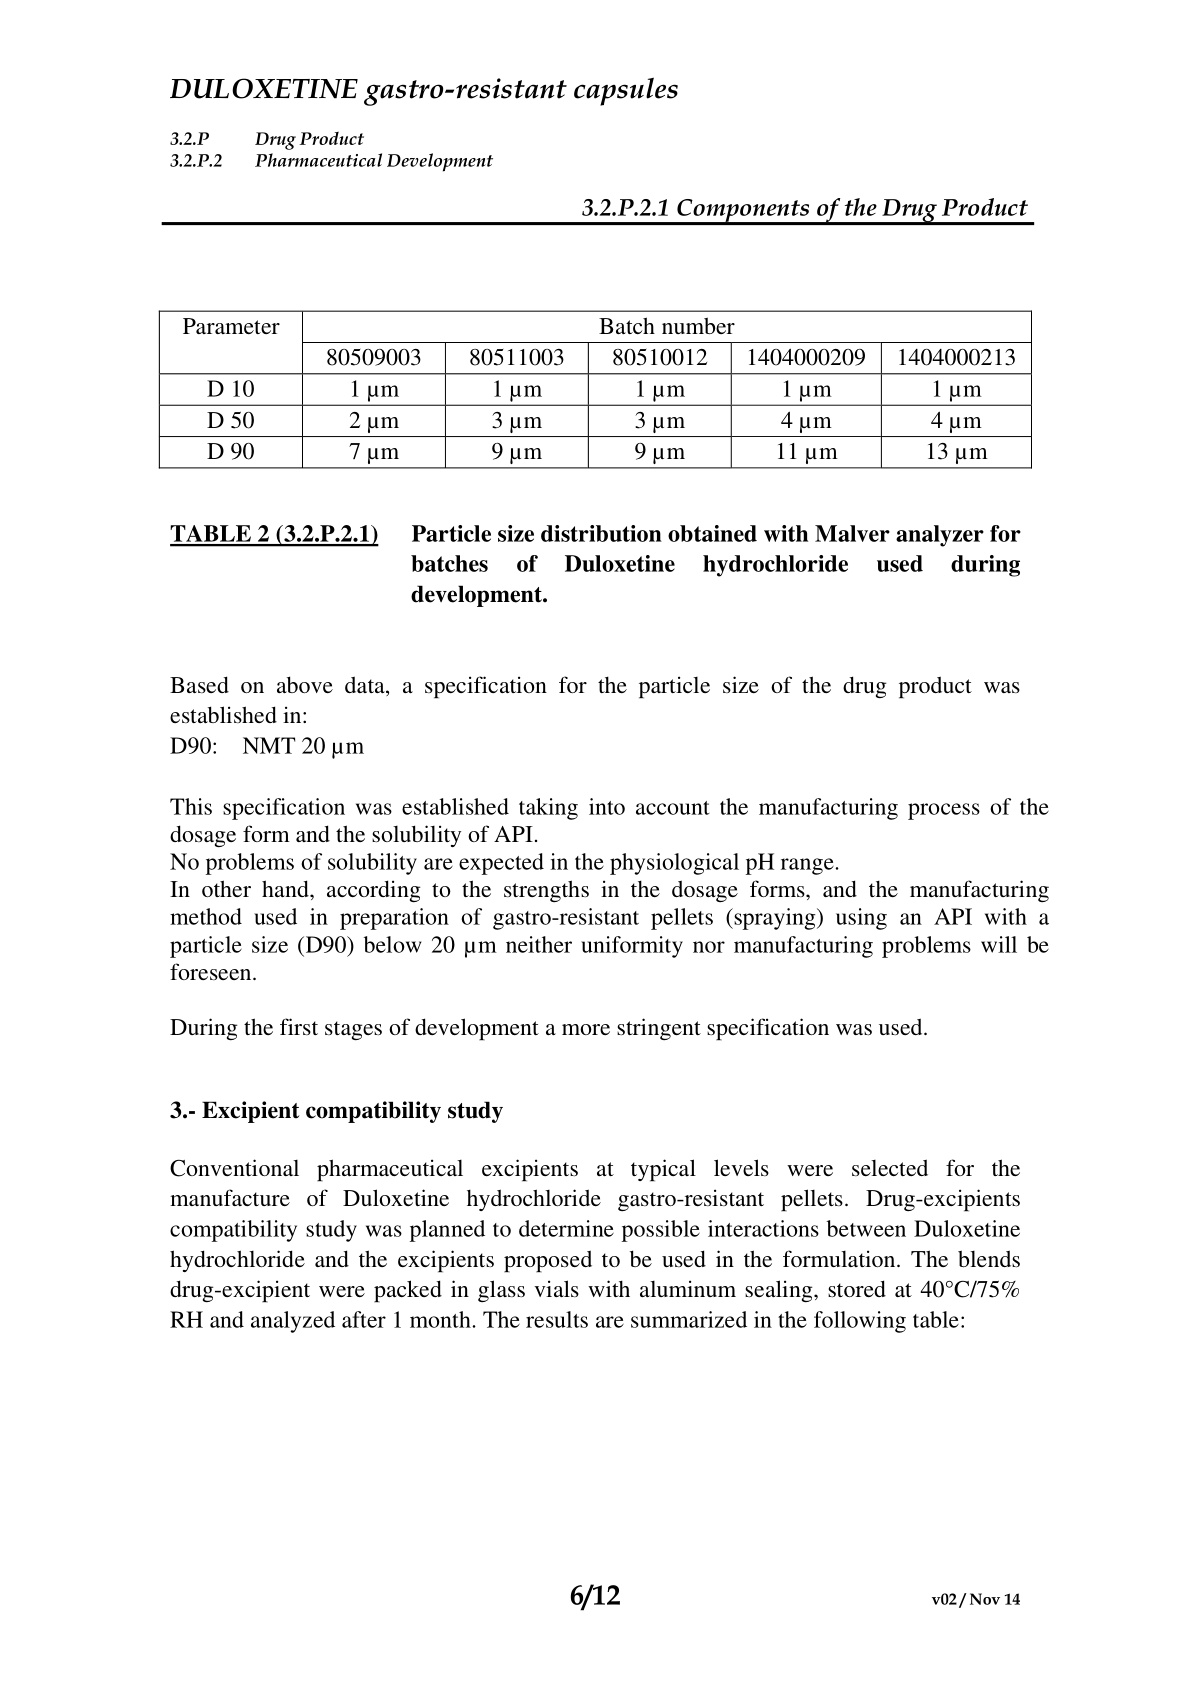merged_cells: (159, 309, 1032, 469)
